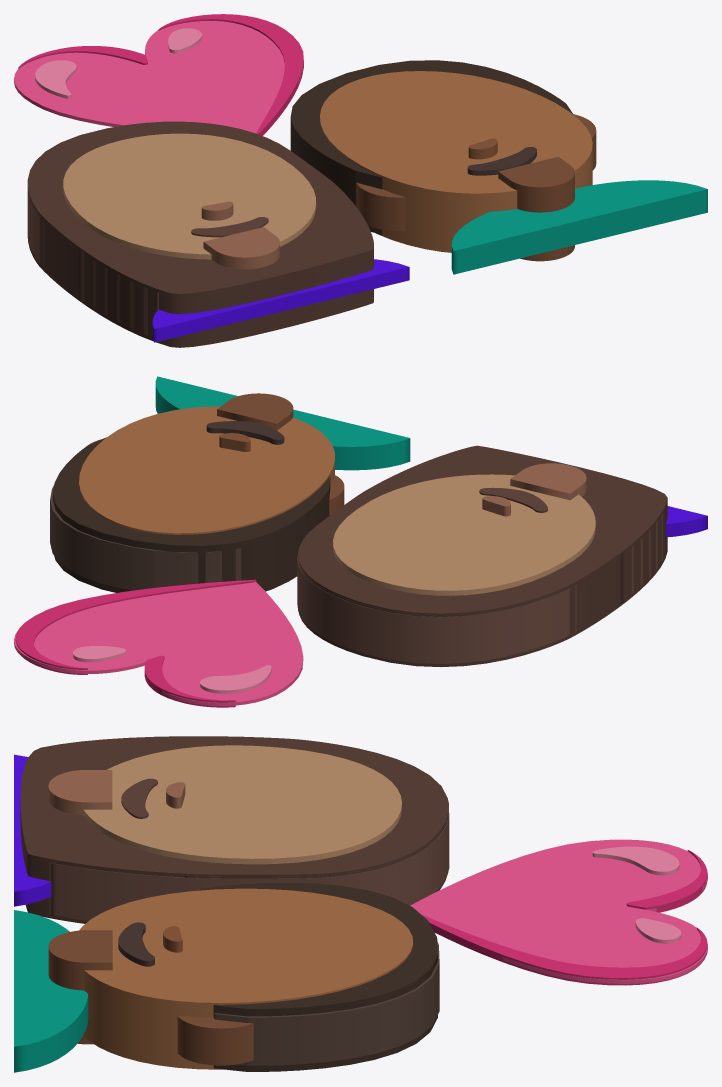
Rendered from emoji_u1f469_1f3fd_200d_2764_200d_1f468_1f3fe.glb.
The picture shows the model from 3 angles, top to bottom: view 1: azimuth 30°, elevation 25°; view 2: azimuth 150°, elevation 25°; view 3: azimuth 270°, elevation 25°; orthographic projection. The views are drawn at different scales.
Parts seen in each view (by area): view 1: emoji_u1f469_1f3fd_200d_2764_200d_1f468_1f3fe; view 2: emoji_u1f469_1f3fd_200d_2764_200d_1f468_1f3fe; view 3: emoji_u1f469_1f3fd_200d_2764_200d_1f468_1f3fe.
Boxes of the visible parts, x1,y1,x2,y2 form: emoji_u1f469_1f3fd_200d_2764_200d_1f468_1f3fe: [14, 14, 707, 347]; emoji_u1f469_1f3fd_200d_2764_200d_1f468_1f3fe: [14, 376, 707, 707]; emoji_u1f469_1f3fd_200d_2764_200d_1f468_1f3fe: [14, 736, 707, 1072].
Bounding box in the file's own units: 0.0345 × 0.005 × 0.0339.
